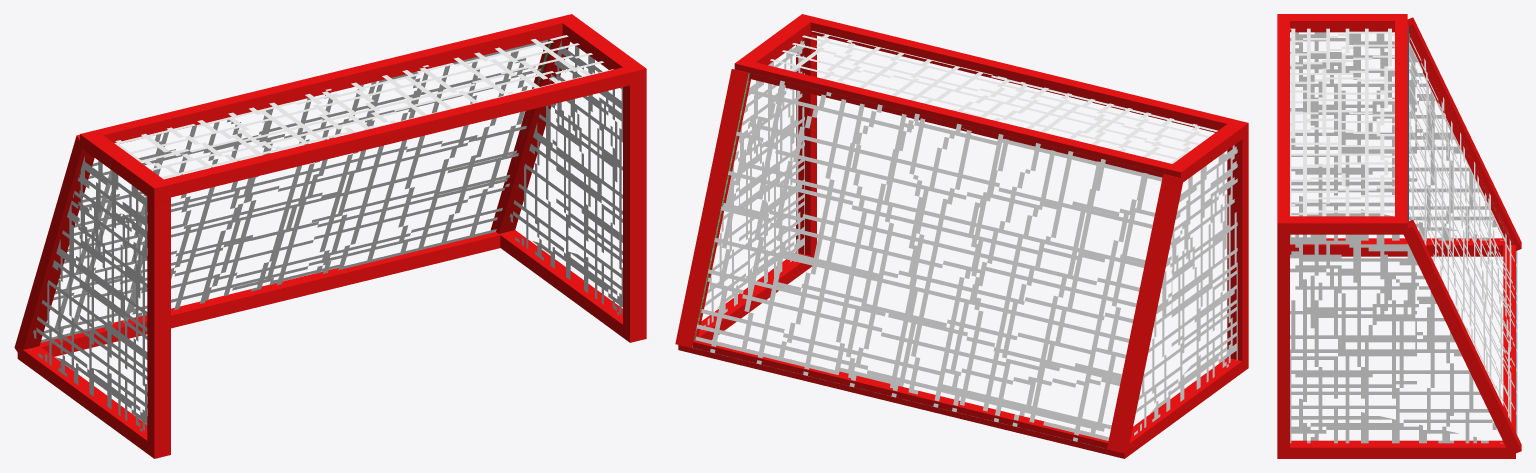
The model's file is hockey-goal-red-bigger.gltf.
3 renders of one model, left to right at view 1: azimuth 30°, elevation 25°; view 2: azimuth 150°, elevation 25°; view 3: azimuth 270°, elevation 25°, orthographic. The views are drawn at different scales.
Parts seen in each view (by area): view 1: obj1; view 2: obj1; view 3: obj1.
Boxes of the visible parts, x1,y1,x2,y2 form: obj1: (14,14,646,458); obj1: (675,14,1248,458); obj1: (1277,14,1521,458).
Size of the model in its own units: 8 by 4.2 by 3.94.
5 materials, 5 textured.
